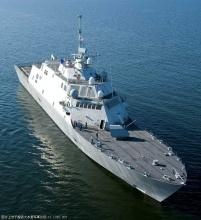warship: (12, 39, 187, 202)
